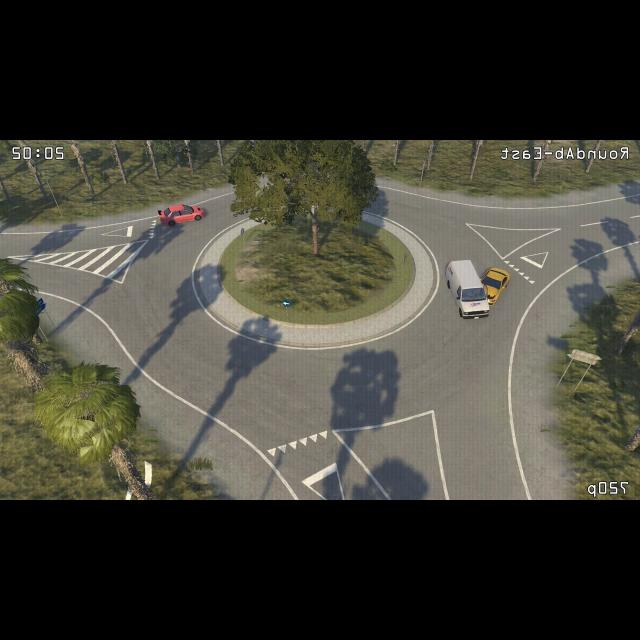accident: (443, 257, 513, 325)
